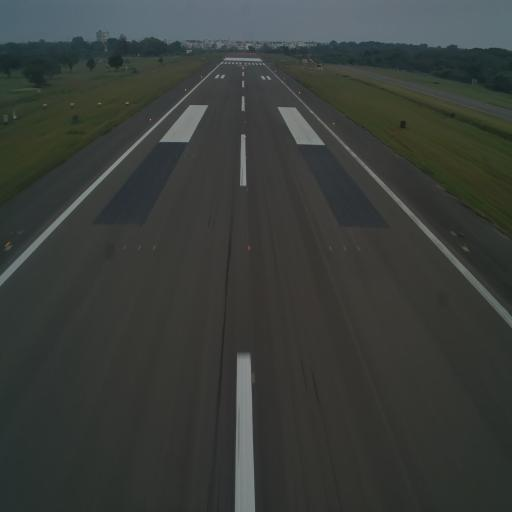off: (449, 226, 460, 243), (327, 243, 335, 256), (341, 244, 348, 254), (136, 241, 142, 252), (121, 244, 127, 254), (150, 242, 156, 252), (356, 245, 361, 255)
on: (248, 368, 258, 387), (2, 240, 12, 252), (245, 240, 251, 257), (244, 152, 250, 162)
